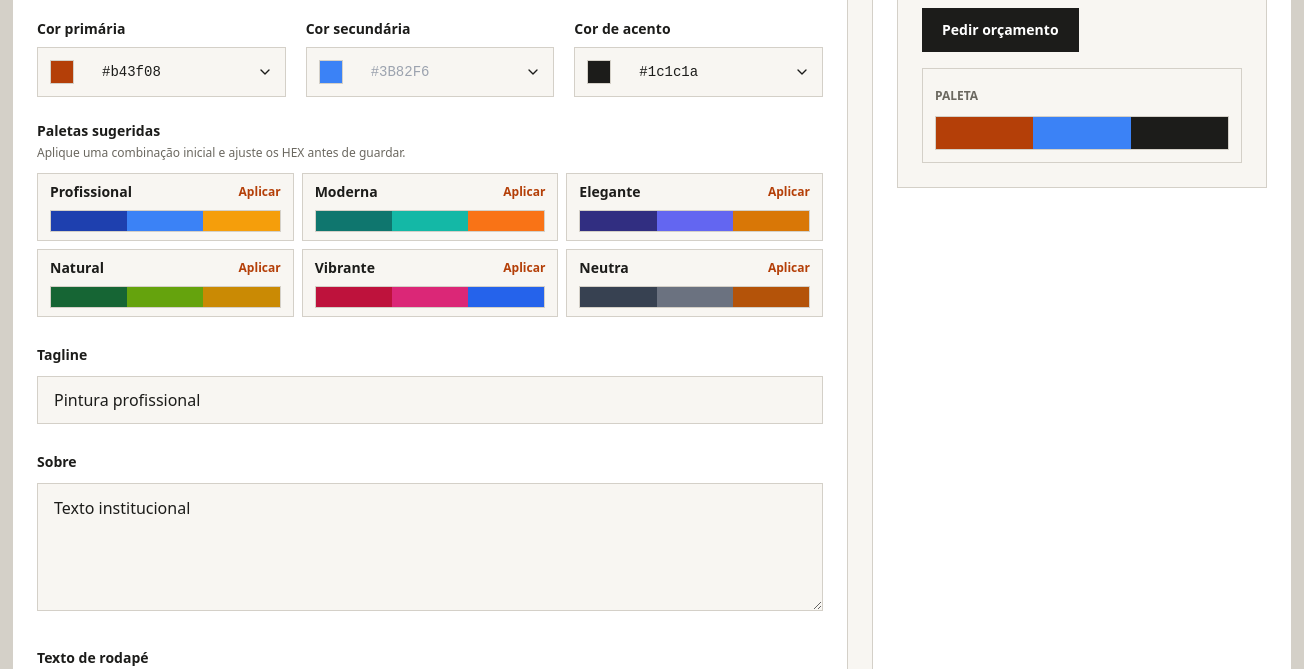
Test: BrandingPage color picker › keeps tagline and about text live preview behavior
(page scrolled)
Replace the text in the field labelled "Tagline" with "Nova chamada" at (430, 400), box [37,376,823,424]
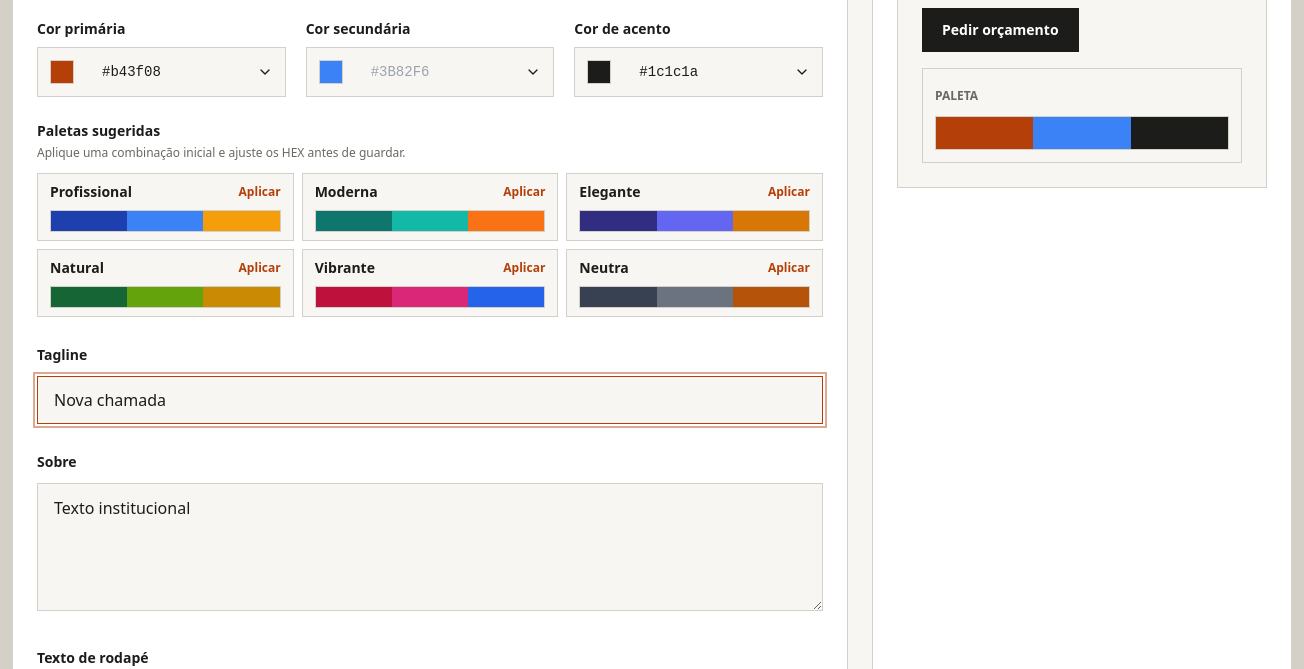
Replace the text in the text box labelled "Sobre" with "Novo texto institucional" at (430, 547), box [37,483,823,611]
(page scrolled)
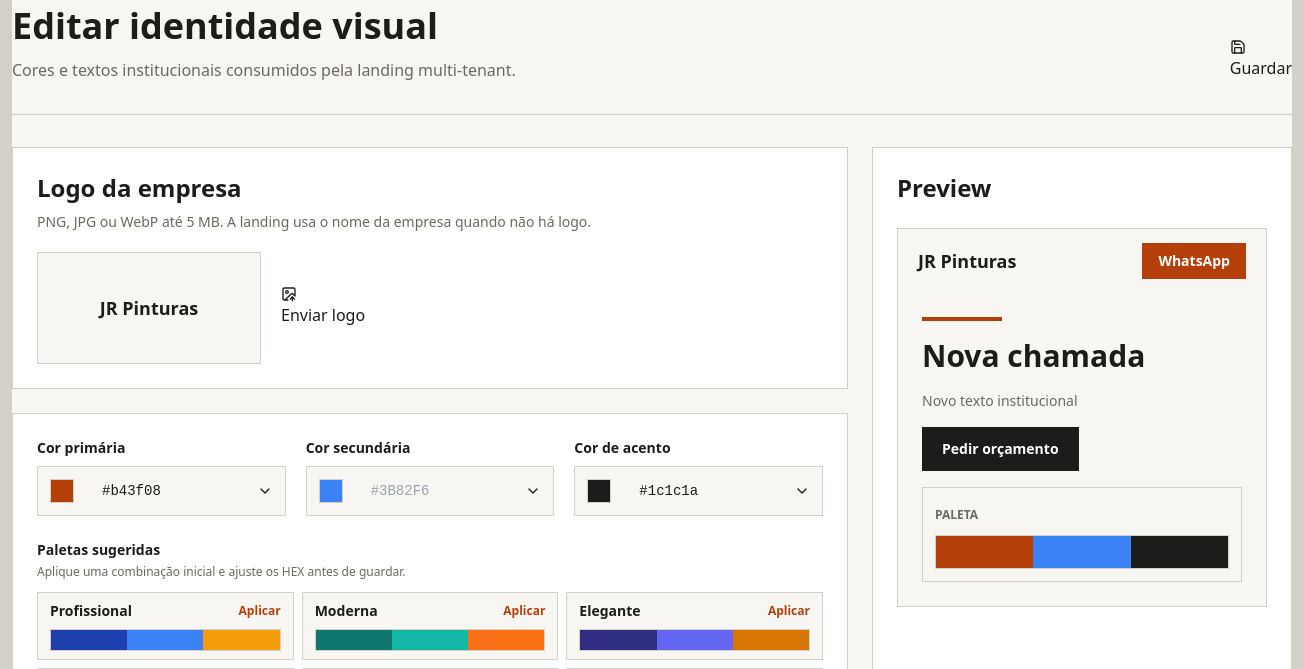
expect the heading "Nova chamada" is shown: met, box [922,335,1145,376]
expect the text "Novo texto institucional" is shown: met, box [922,390,1078,410]
